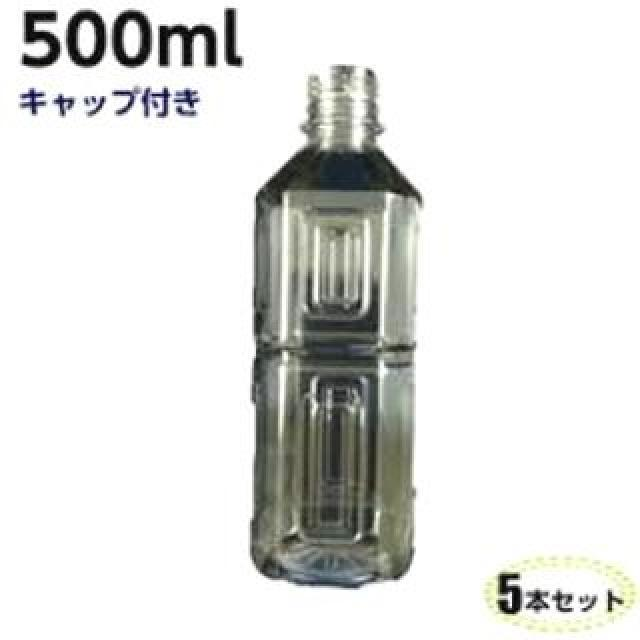Pet_Bottle: (235, 59, 437, 593)
